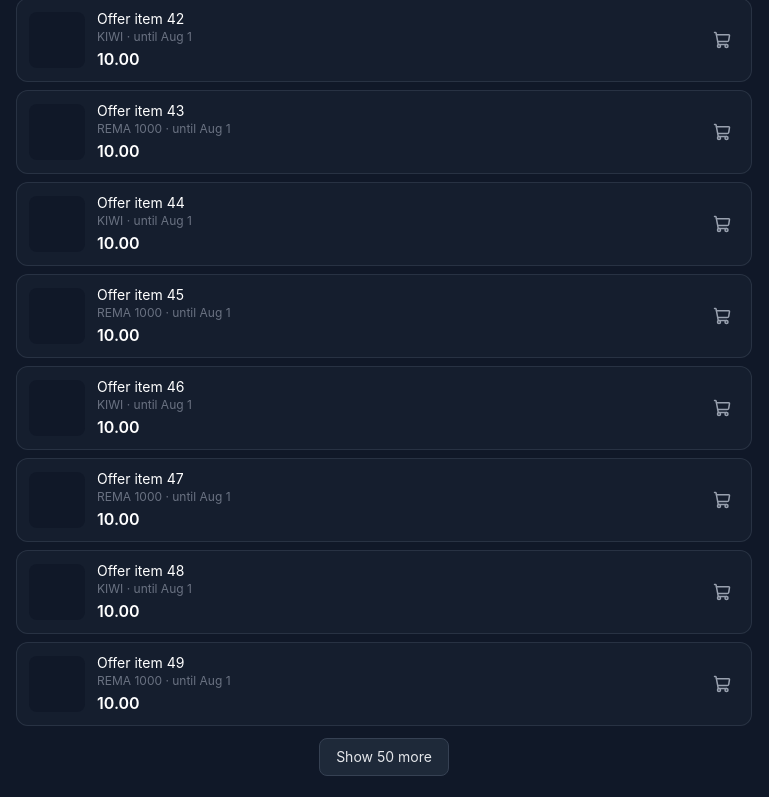
Scenario: OffersPage › paging and filtered-empty state › renders the first 50 un-watched offers and reveals more per click
(page scrolled)
Click the button "Show 50 more" at (384,757), box [319, 738, 449, 776]
(page scrolled)
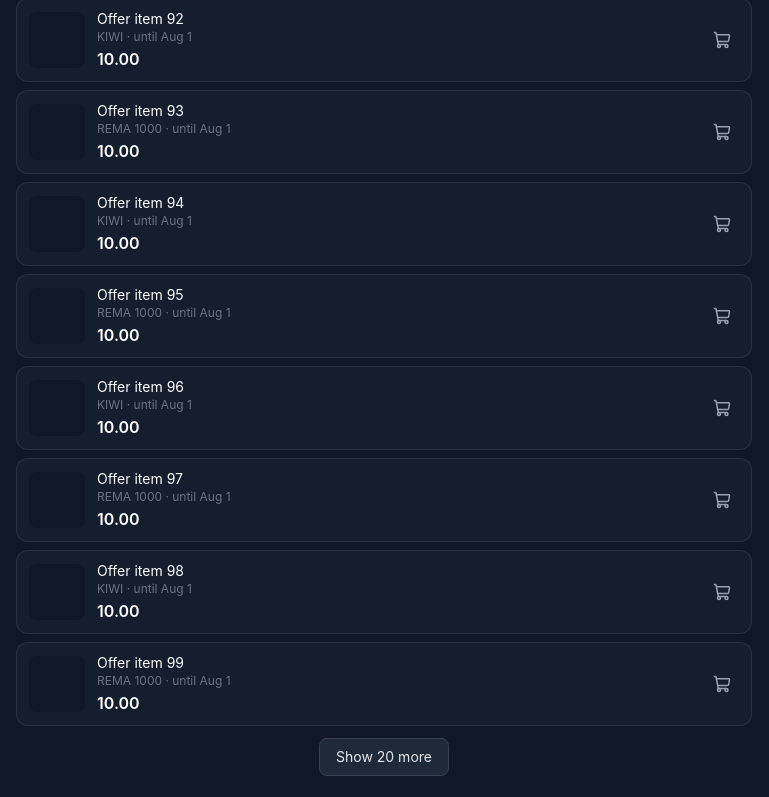
Click the button "Show 20 more" at (384,757), box [319, 738, 449, 776]
(page scrolled)
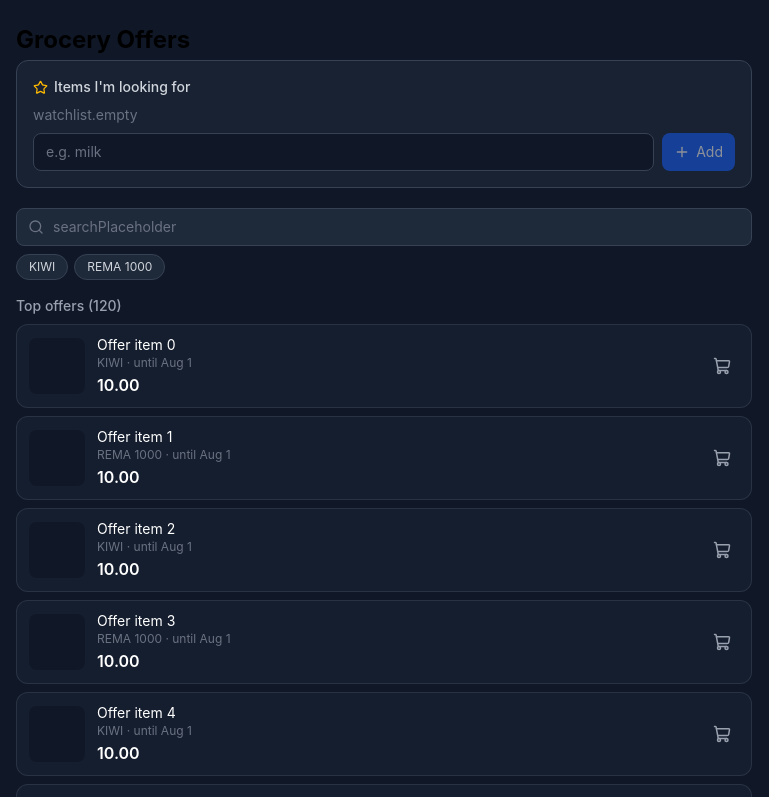
Expected: the heading "Top offers (120)" is shown, [16, 297, 122, 314]
Expected: the button "Show 20 more" is gone
